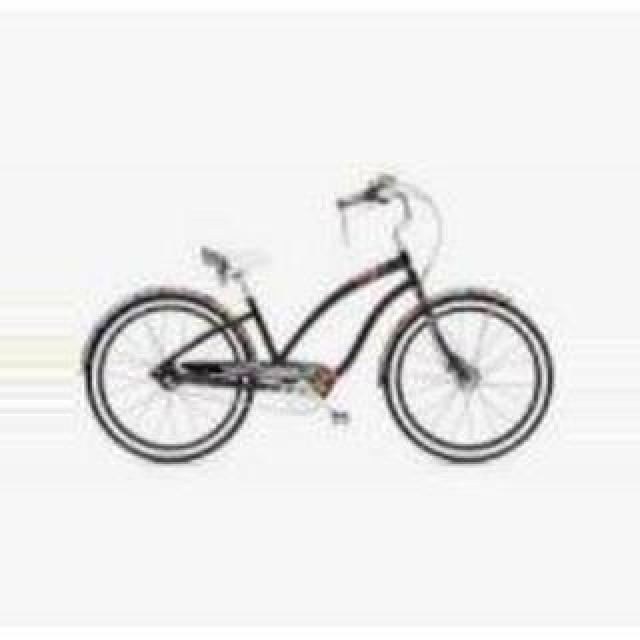Person: (82, 171, 554, 469)
